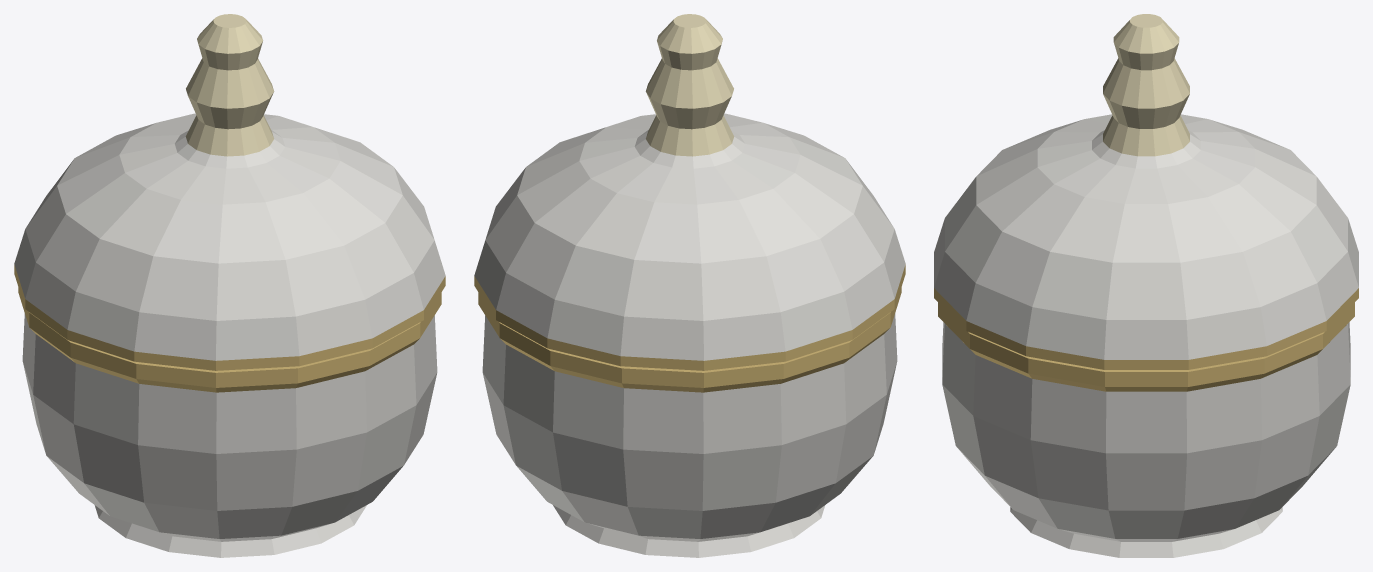
Rendered from sopera.fbx.
The picture shows the model from 3 angles, left to right: view 1: azimuth 30°, elevation 25°; view 2: azimuth 150°, elevation 25°; view 3: azimuth 270°, elevation 25°; orthographic projection.
Parts seen in each view (by area): view 1: sopera_tapa, sopera; view 2: sopera_tapa, sopera; view 3: sopera_tapa, sopera.
Part boxes in pixels (bbox=[...]): sopera_tapa: bbox=[14, 14, 445, 370]; sopera: bbox=[18, 287, 441, 557]; sopera_tapa: bbox=[474, 14, 905, 370]; sopera: bbox=[478, 287, 901, 557]; sopera_tapa: bbox=[934, 14, 1358, 369]; sopera: bbox=[938, 302, 1354, 557].
Bounding box in the file's own units: 30.6 × 38.5 × 30.6.
